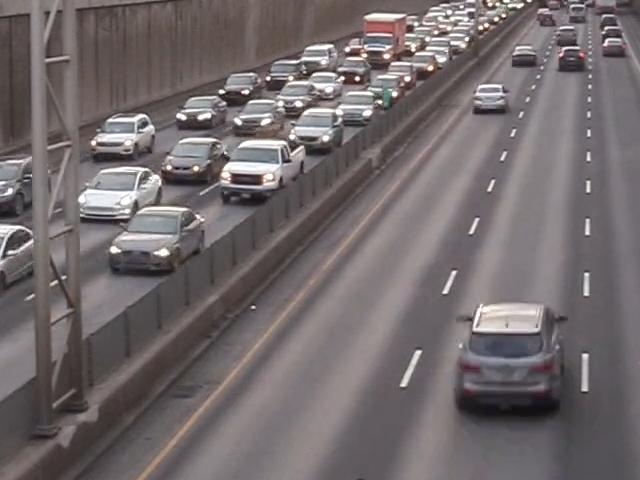car: (450, 298, 572, 423), (108, 207, 206, 275), (220, 138, 307, 198), (79, 165, 157, 222), (0, 223, 46, 301), (161, 133, 225, 187), (0, 152, 50, 220), (89, 112, 157, 161), (290, 110, 346, 149), (232, 97, 285, 135), (173, 96, 230, 129), (467, 79, 513, 119), (277, 80, 320, 112), (224, 72, 267, 102), (336, 93, 379, 122), (389, 63, 426, 91), (330, 56, 369, 82), (301, 44, 339, 69), (264, 58, 302, 82), (303, 71, 339, 96), (408, 52, 441, 75), (509, 44, 543, 66), (369, 79, 403, 100), (599, 36, 630, 59), (558, 47, 585, 69), (430, 38, 460, 57), (554, 24, 578, 44), (424, 47, 449, 65), (403, 34, 420, 54), (600, 27, 621, 39), (602, 16, 617, 28)
truck: (357, 12, 407, 63)
